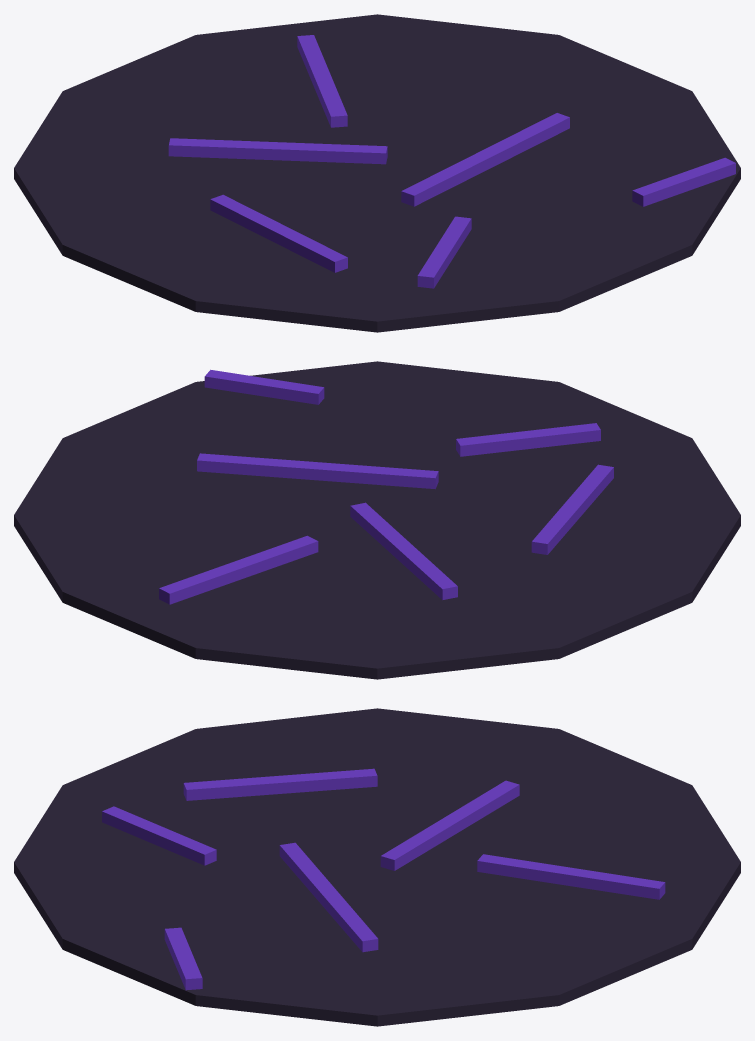
Rendered from env_r16_cracked_obsidian.glb.
The picture shows the model from 3 angles, top to bottom: view 1: azimuth 30°, elevation 25°; view 2: azimuth 150°, elevation 25°; view 3: azimuth 270°, elevation 25°; orthographic projection.
Visible parts, largest first — view 1: env_r16_cracked_obsidian; view 2: env_r16_cracked_obsidian; view 3: env_r16_cracked_obsidian.
Boxes of the visible parts, <box> form: env_r16_cracked_obsidian: <box>14,14,740,332</box>; env_r16_cracked_obsidian: <box>14,361,740,679</box>; env_r16_cracked_obsidian: <box>14,708,740,1026</box>.
Bounding box in the file's own units: 3 × 0.1 × 3.
1 material, 1 textured.
